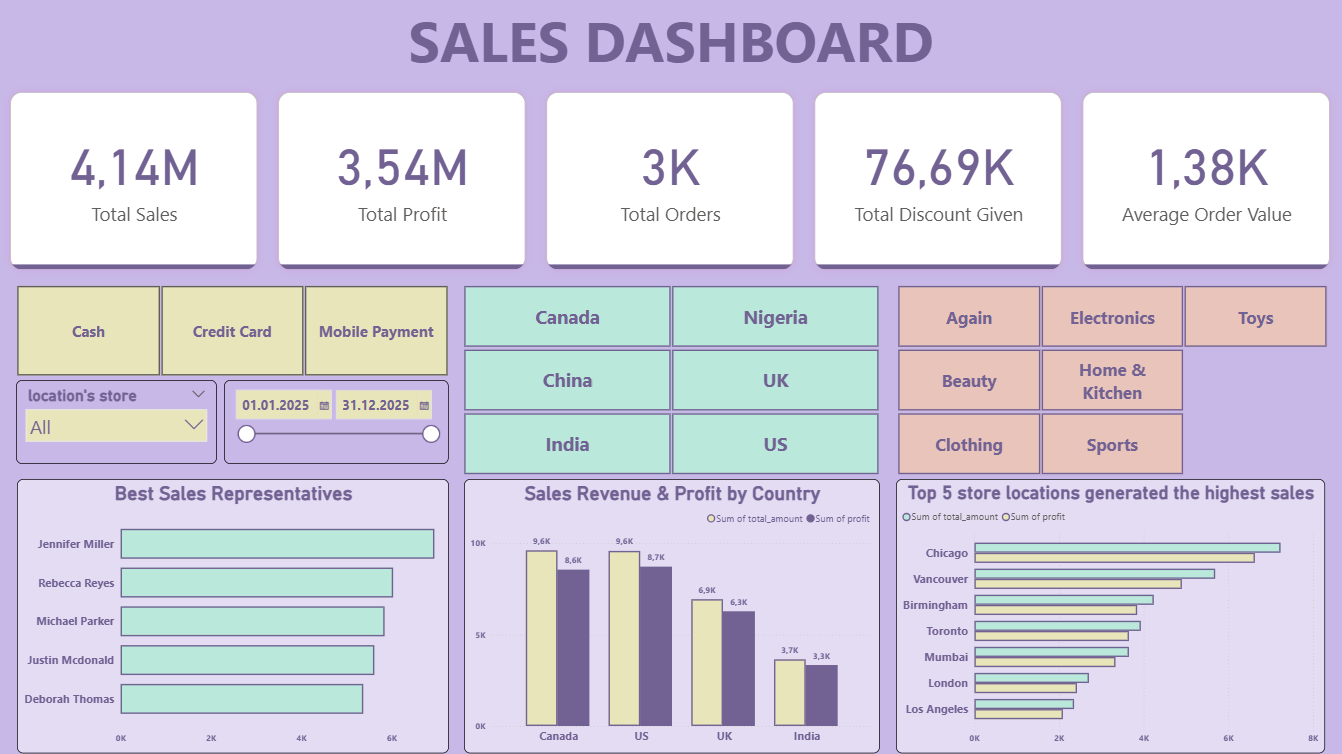

The dashboard page shown, as its layout file describes it:
{"tool":"powerbi","page":{"name":"Page 1","canvas":[1920,1080],"ordinal":0},"visuals":[{"type":"cardVisual","fields":{"Data":["public sales_data.Total Sales","public sales_data.Total Profit","public sales_data.Total Orders","public sales_data.Total Discount Given","public sales_data.Average Order Value"]},"box":[0,118.4,1920,285.8],"z":0},{"type":"textbox","box":[0,0,1920,118.4],"z":1000},{"type":"slicer","fields":{"Values":["public sales_data.country"]},"box":[638.1,404.2,642.4,282.9],"z":2000},{"type":"slicer","fields":{"Values":["public sales_data.store_location"]},"box":[24.5,546,287.3,119.8],"z":3000},{"type":"slicer","fields":{"Values":["public sales_data.payment_method"]},"box":[0,404.4,664.5,141.6],"z":4000},{"type":"slicer","fields":{"Values":["public sales_data.category"]},"box":[1258.2,404.4,661.8,283.2],"z":5000},{"type":"slicer","fields":{"Values":["public sales_data.date"]},"box":[321.4,546,321.4,119.8],"z":6000},{"type":"barChart","title":"Best Sales Representatives","fields":{"Category":["public sales_data.sales_rep"],"Y":["Sum(public sales_data.total_amount)"]},"box":[25.9,687.7,616.9,392.2],"z":6001},{"type":"clusteredColumnChart","title":"Sales Revenue & Profit by Country","fields":{"Y":["Sum(public sales_data.total_amount)","Sum(public sales_data.profit)"],"Category":["public sales_data.country"]},"box":[664.5,687.7,593.7,392.2],"z":6002},{"type":"clusteredBarChart","title":"Top 5 store locations generated the highest sales","fields":{"Category":["public sales_data.store_location"],"Y":["Sum(public sales_data.total_amount)","Sum(public sales_data.profit)"]},"box":[1281.4,687.7,612.8,392.2],"z":6003}]}

Visuals, with their boxes in screenshot pixels (x1, y1, x2, y2), scaled from the page's 1920x1080 canvas onto the 1342x754 screenshot:
cardVisual - public sales_data.Total Sales x public sales_data.Total Profit: (0, 83, 1341, 282)
textbox: (0, 0, 1341, 83)
slicer - public sales_data.country: (446, 282, 895, 480)
slicer - public sales_data.store_location: (17, 381, 218, 465)
slicer - public sales_data.payment_method: (0, 282, 464, 381)
slicer - public sales_data.category: (879, 282, 1341, 480)
slicer - public sales_data.date: (225, 381, 449, 465)
"Best Sales Representatives" barChart: (18, 480, 449, 753)
"Sales Revenue & Profit by Country" clusteredColumnChart: (464, 480, 879, 753)
"Top 5 store locations generated the highest sales" clusteredBarChart: (896, 480, 1324, 753)
